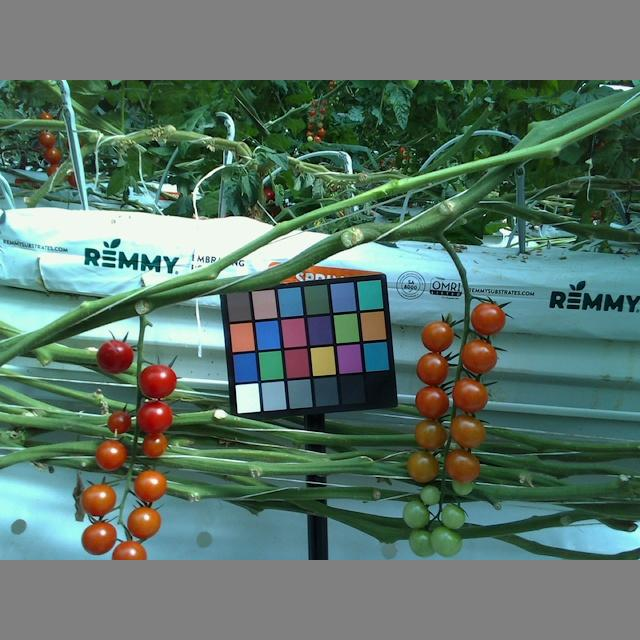green: (431, 525, 463, 558), (406, 528, 442, 557), (403, 499, 432, 528), (440, 502, 467, 531), (418, 485, 442, 506)
pink: (79, 481, 117, 517), (80, 519, 117, 555), (447, 415, 486, 449), (442, 449, 482, 482), (452, 378, 490, 412), (414, 351, 450, 386), (471, 302, 508, 336), (415, 385, 451, 419), (418, 319, 455, 352), (405, 449, 439, 484), (459, 342, 499, 371), (127, 506, 163, 538), (413, 417, 447, 450), (93, 440, 129, 471), (132, 470, 166, 502), (140, 433, 167, 457), (108, 410, 131, 436)
red: (93, 337, 135, 374), (138, 364, 178, 398), (137, 400, 173, 432)
